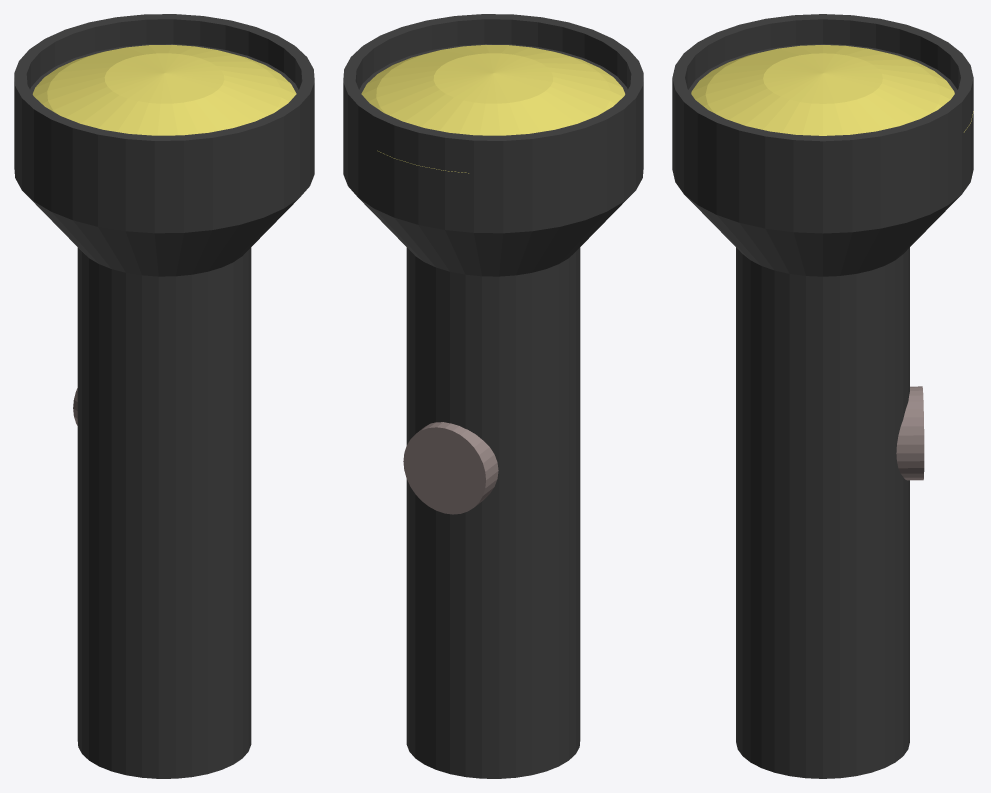
File: torcia.fbx
3 renders of one model, left to right at view 1: azimuth 30°, elevation 25°; view 2: azimuth 150°, elevation 25°; view 3: azimuth 270°, elevation 25°, orthographic.
Parts seen in each view (by area): view 1: Cylinder, Sphere; view 2: Cylinder, Sphere, Cylinder.001; view 3: Cylinder, Sphere, Cylinder.001.
Boxes of the visible parts, x1,y1,x2,y2 form: Cylinder: (14, 14, 314, 778); Sphere: (32, 45, 296, 135); Cylinder: (343, 14, 643, 778); Sphere: (361, 45, 625, 173); Cylinder.001: (403, 422, 498, 514); Cylinder: (672, 14, 973, 778); Sphere: (691, 45, 973, 135); Cylinder.001: (896, 386, 924, 480).
Bounding box in the file's own units: 285 × 699 × 288.
